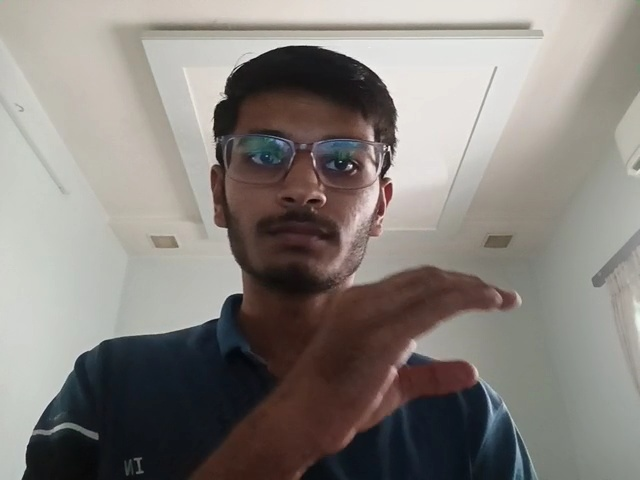No: (284, 258, 529, 442)
